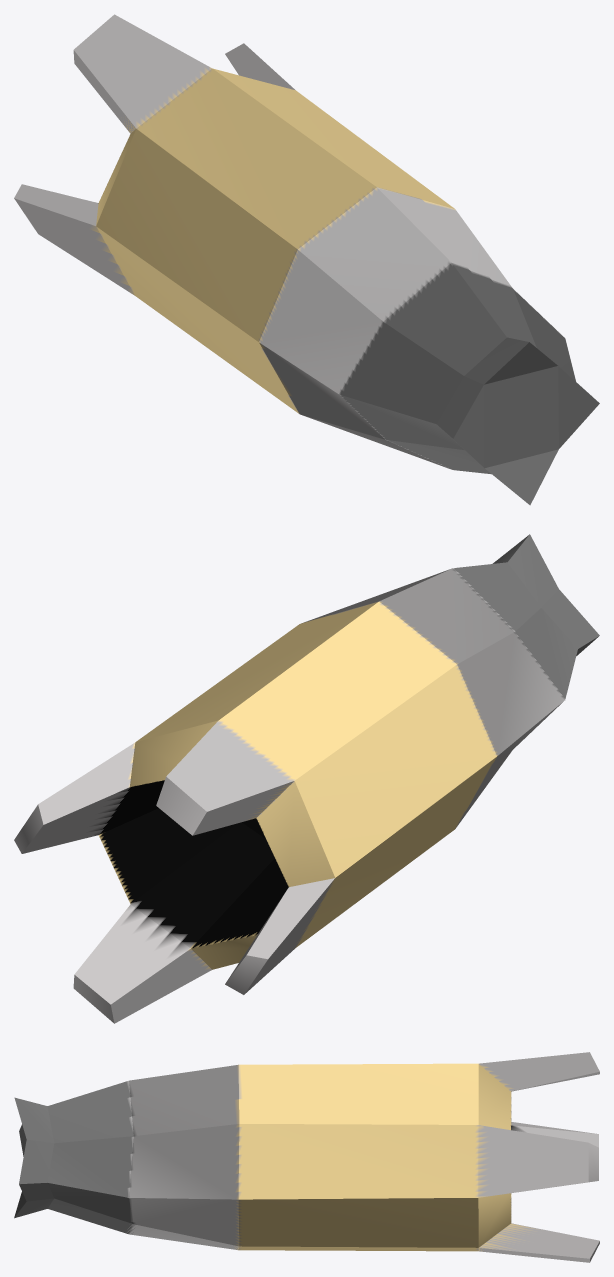
Rendered from turbine 5.FBX.
The picture shows the model from 3 angles, top to bottom: view 1: azimuth 30°, elevation 25°; view 2: azimuth 150°, elevation 25°; view 3: azimuth 270°, elevation 25°; orthographic projection. The views are drawn at different scales.
Parts seen in each view (by area): view 1: Box001; view 2: Box001; view 3: Box001.
Boxes of the visible parts, box(x1,y1,x2,y2) form: Box001: box(14, 14, 599, 505); Box001: box(14, 534, 599, 1023); Box001: box(14, 1052, 599, 1262).
Size of the model in its own units: 18.12 by 17.72 by 48.98.
1 material, 1 textured.
